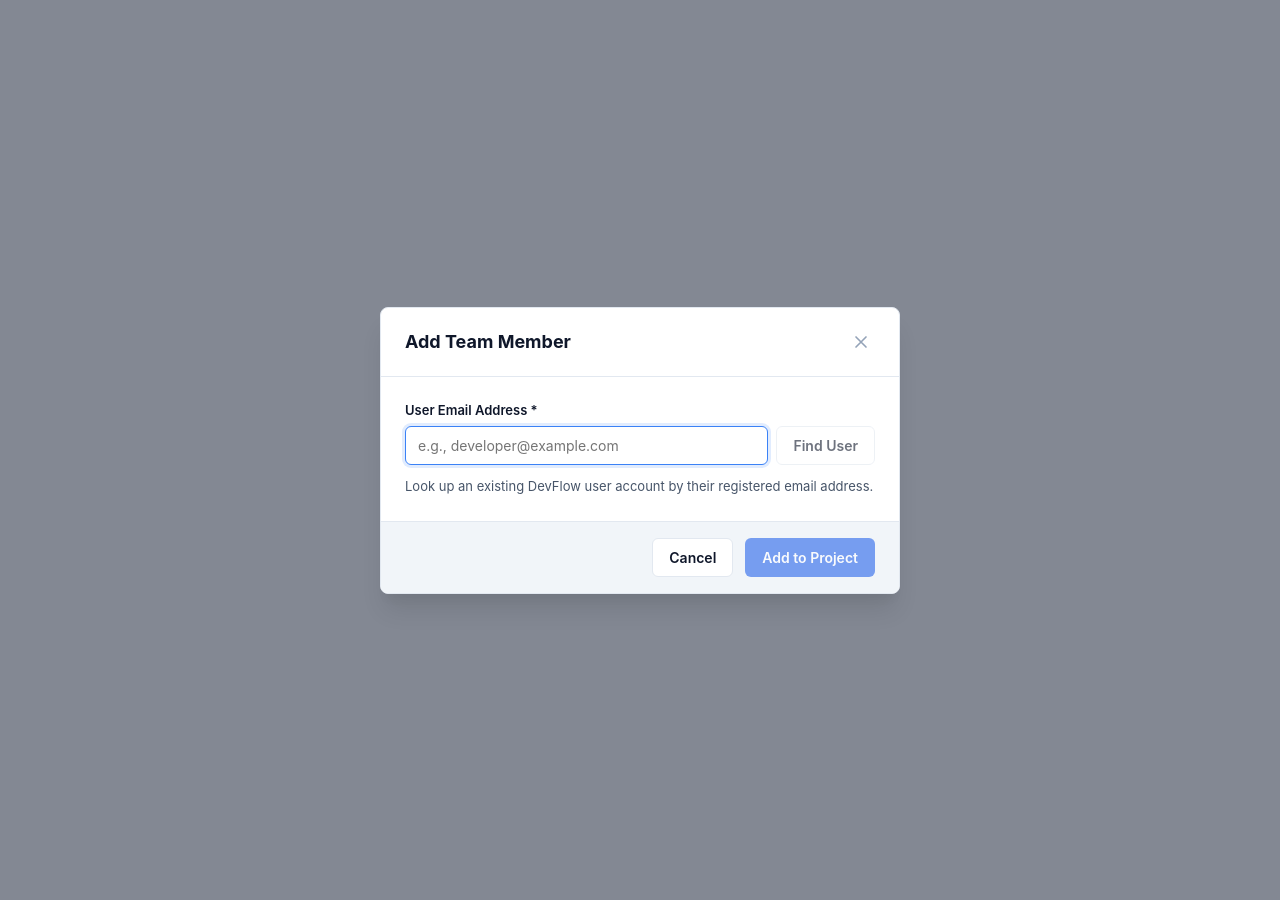
AddMemberModal Component › searches user by email and displays user preview card
In the field labelled "User Email Address *": point(587, 446) [405, 426, 768, 465], type "carlos@example.com"
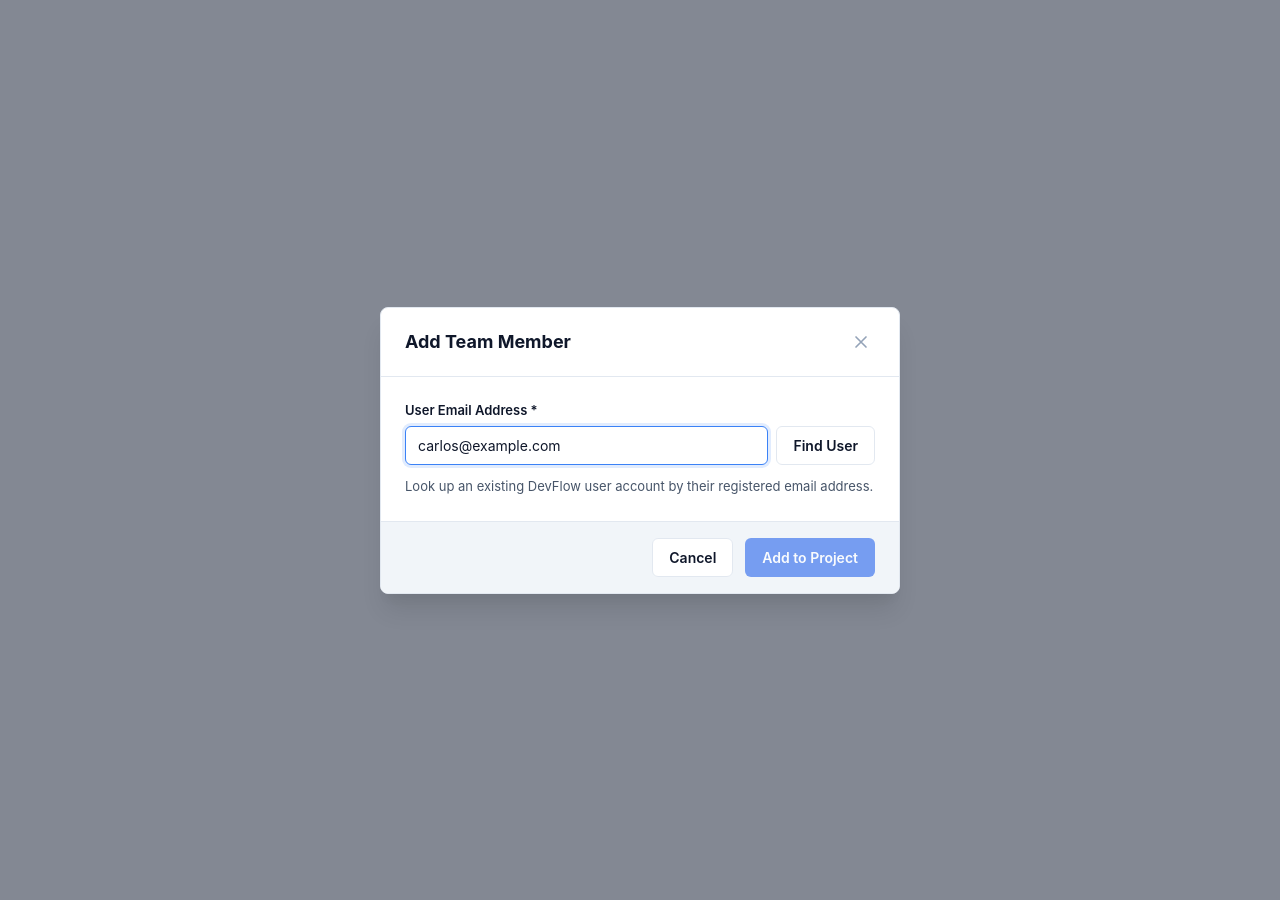
Click the button "Find User": point(826, 446) [776, 426, 875, 465]
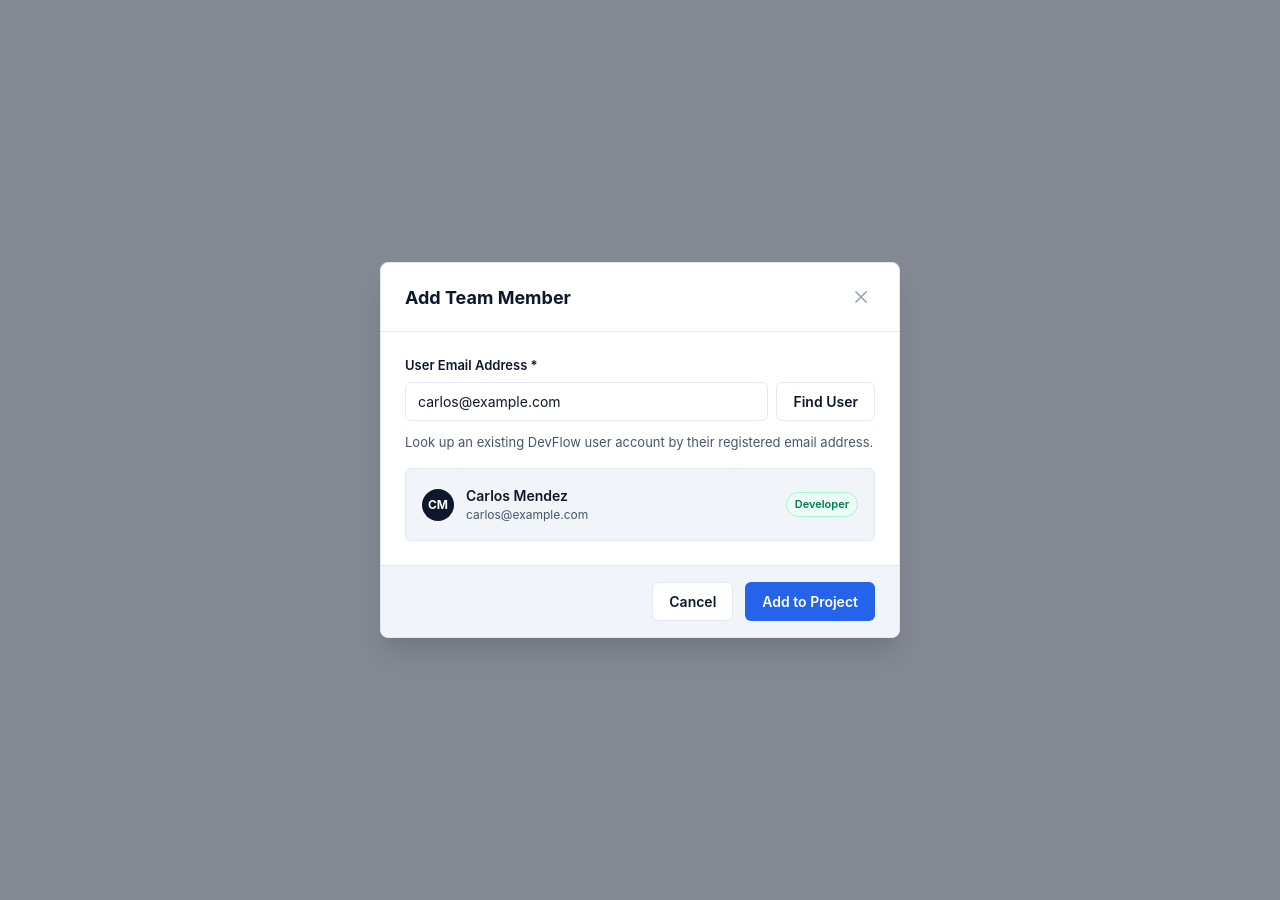
Now the text "Carlos Mendez" is shown, box [466, 487, 568, 504]
Now the text "carlos@example.com" is shown, box [466, 506, 588, 524]
Now the text "Developer" is shown, box [786, 492, 858, 517]
